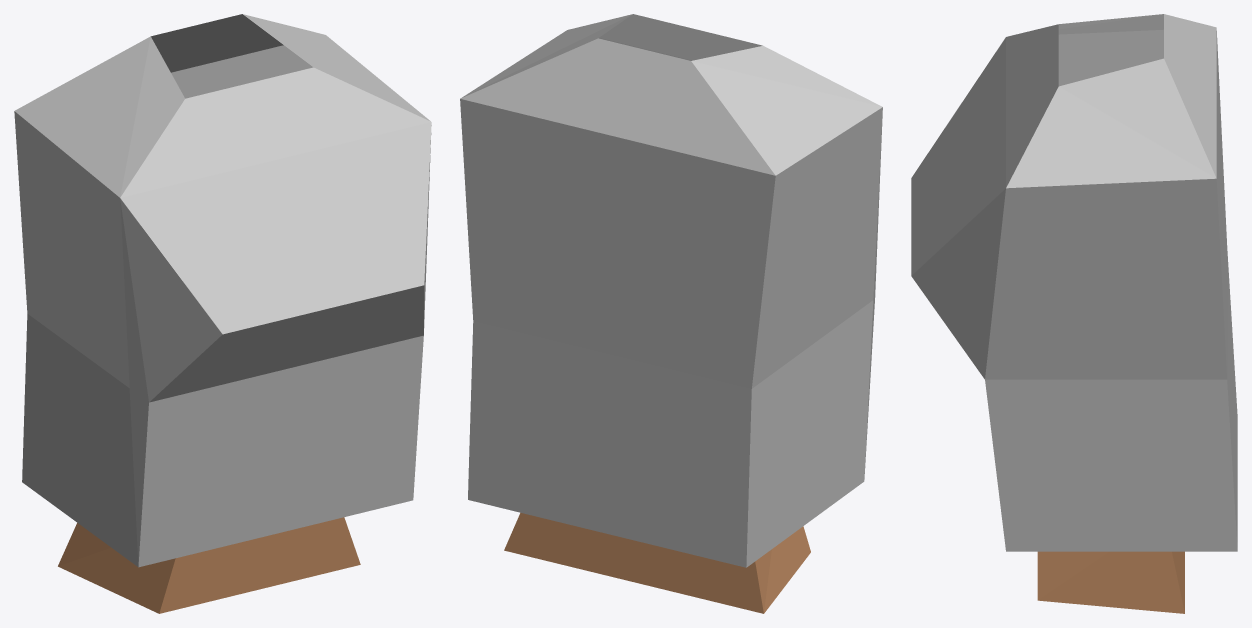
Rendered from model_458_obj_wear.obj.
The picture shows the model from 3 angles, left to right: view 1: azimuth 30°, elevation 25°; view 2: azimuth 150°, elevation 25°; view 3: azimuth 270°, elevation 25°; orthographic projection.
Visible parts, largest first — view 1: 458; view 2: 458; view 3: 458.
Part boxes in pixels (x1=…): 458: x1=14, y1=14, x2=431, y2=613; 458: x1=460, y1=14, x2=882, y2=613; 458: x1=911, y1=14, x2=1237, y2=613.
Size of the model in its own units: 34 by 54 by 31.
